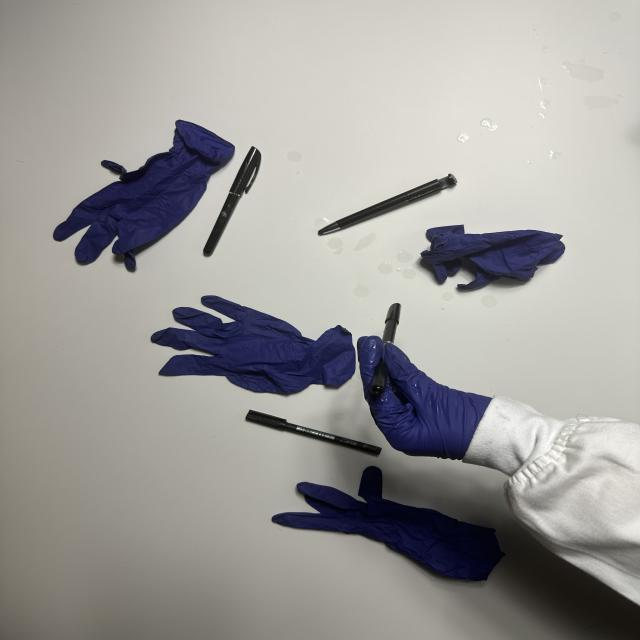gloves_contaminated: (357, 336, 491, 459)
